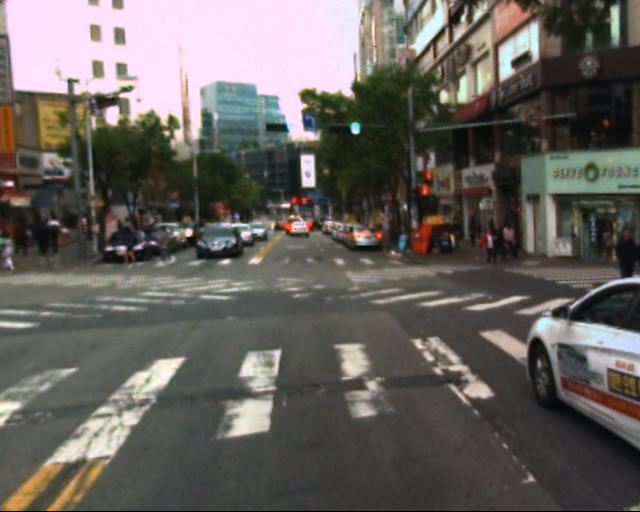person: (435, 217, 532, 277), (112, 222, 150, 270), (149, 224, 187, 267), (617, 223, 637, 289)
